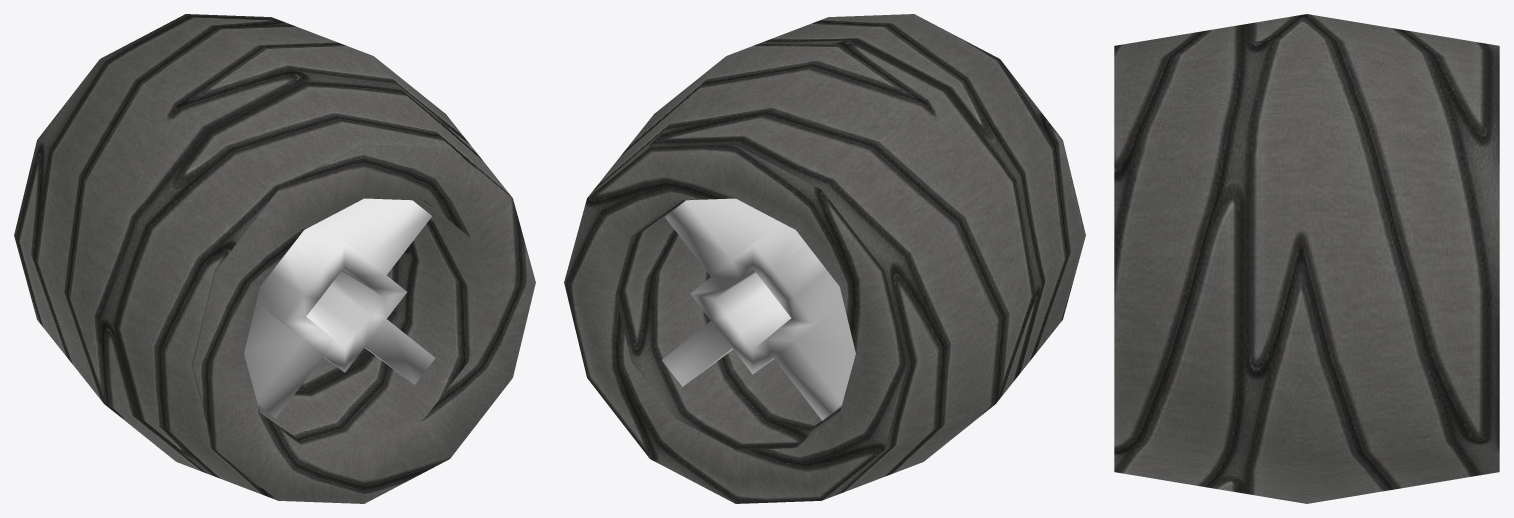
File: wheel.glb
The picture shows the model from 3 angles, left to right: view 1: azimuth 30°, elevation 25°; view 2: azimuth 150°, elevation 25°; view 3: azimuth 270°, elevation 25°; orthographic projection. The views are drawn at different scales.
Parts seen in each view (by area): view 1: Torus.002, Cube.002; view 2: Torus.002, Cube.002; view 3: Torus.002.
Part boxes in pixels (left/top/right/bottom): Torus.002: left=14, top=14, right=535, bottom=503; Cube.002: left=244, top=198, right=435, bottom=418; Torus.002: left=564, top=14, right=1085, bottom=503; Cube.002: left=662, top=198, right=855, bottom=420; Torus.002: left=1114, top=14, right=1499, bottom=503.
Bounding box in the file's own units: 1.92 × 1.92 × 1.5.
1 material, 1 textured.
